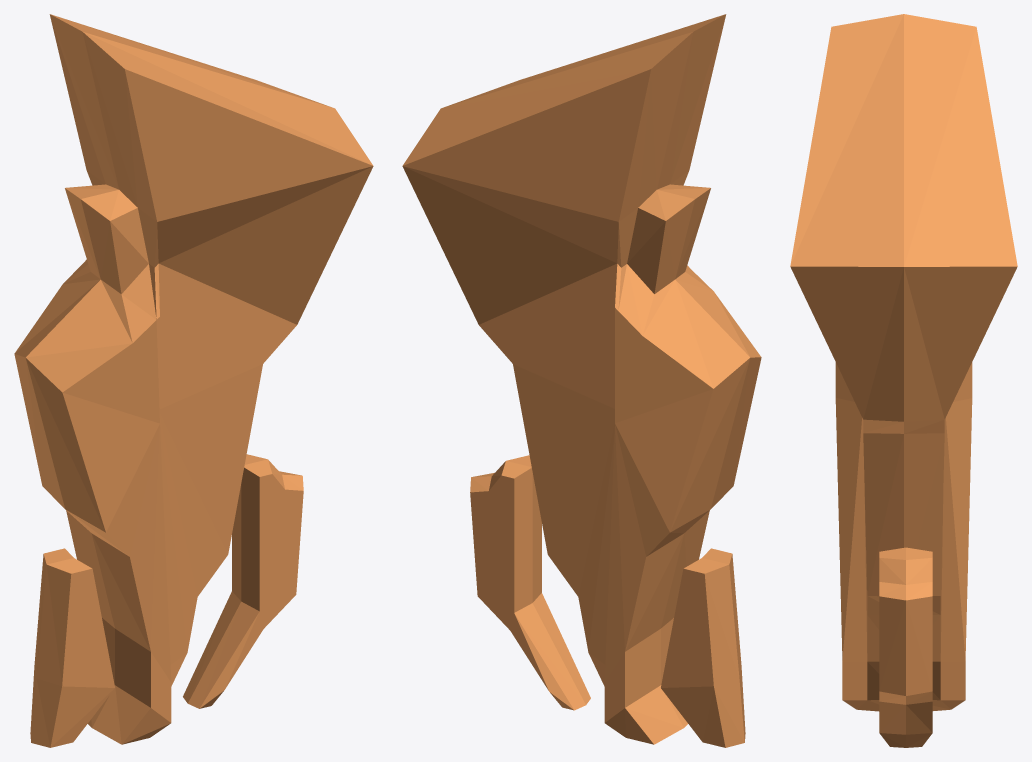
The model's file is Rock_Large_Canyon_Eroded_11.FBX.
3 views of the same model, side by side, from view 1: azimuth 30°, elevation 25°; view 2: azimuth 150°, elevation 25°; view 3: azimuth 270°, elevation 25° (orthographic). The views are drawn at different scales.
Parts seen in each view (by area): view 1: Rock_Large_Canyon_Eroded_11; view 2: Rock_Large_Canyon_Eroded_11; view 3: Rock_Large_Canyon_Eroded_11.
Boxes of the visible parts, <box> form: Rock_Large_Canyon_Eroded_11: <box>14,14,373,747</box>; Rock_Large_Canyon_Eroded_11: <box>402,14,761,747</box>; Rock_Large_Canyon_Eroded_11: <box>790,14,1017,747</box>.
Bounding box in the file's own units: 4796 × 10344 × 3158.
